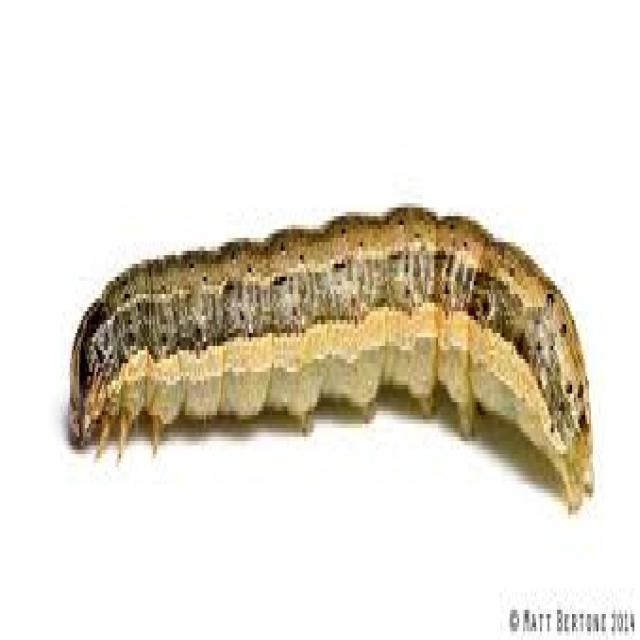armyworm: (69, 205, 597, 518)
